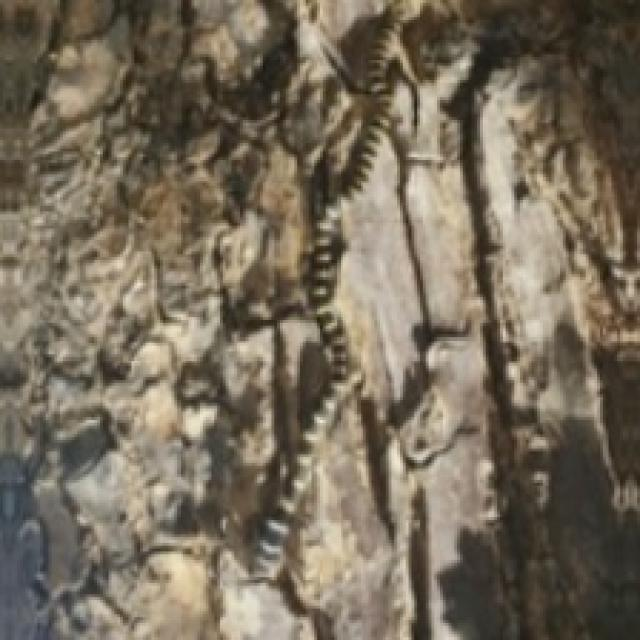paradise tree snake: (250, 0, 408, 604)
